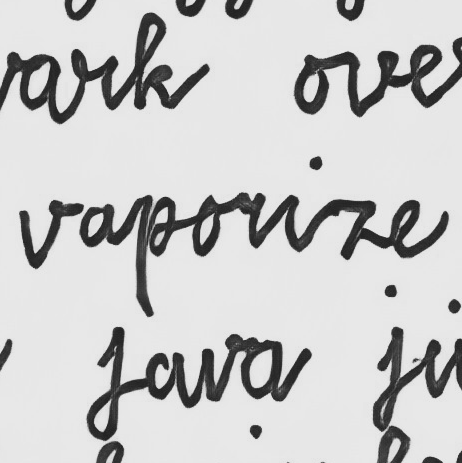a: (76, 202, 118, 251)
e: (387, 196, 434, 260)
i: (277, 189, 309, 255)
o: (189, 193, 224, 257)
p: (129, 192, 181, 319)
r: (227, 188, 270, 250)
v: (16, 201, 66, 272)
z: (325, 196, 380, 261)
